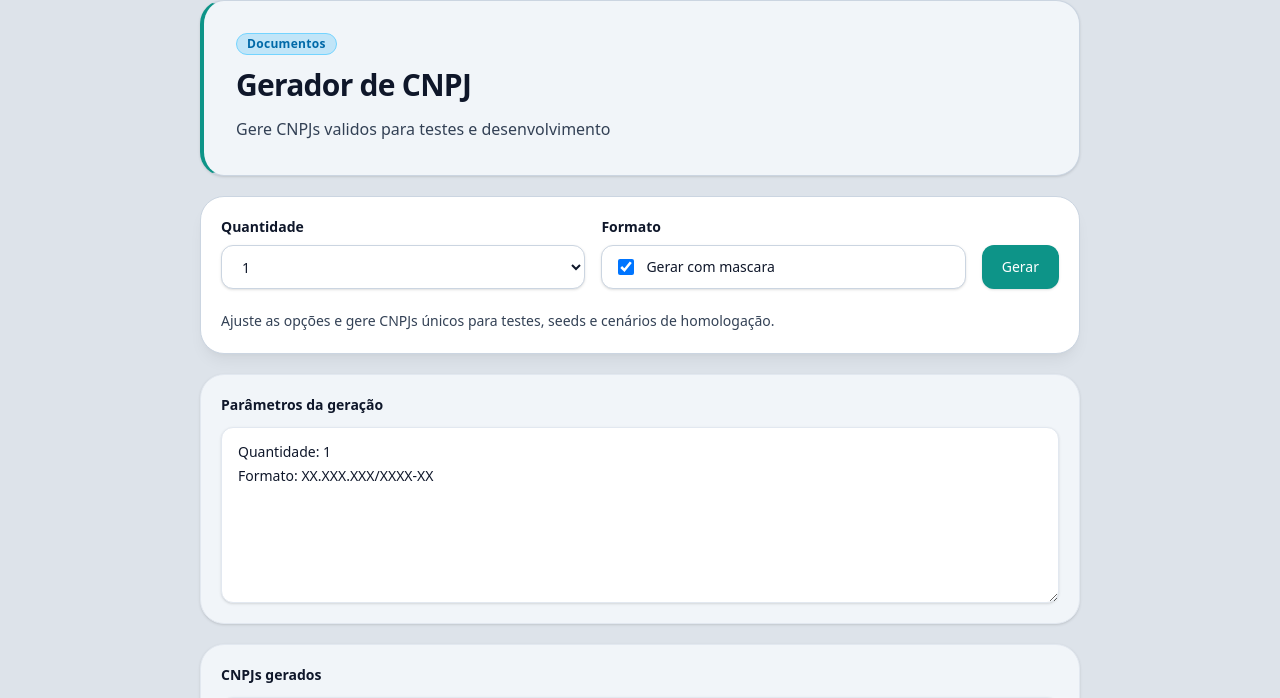
CnpjGeneratorPage › exibe toast de erro quando a geracao falha
This screenshot has width=1280, height=698.
Click the button "Gerar" at (1020, 267), box top-left (982, 245), bottom-right (1059, 289)
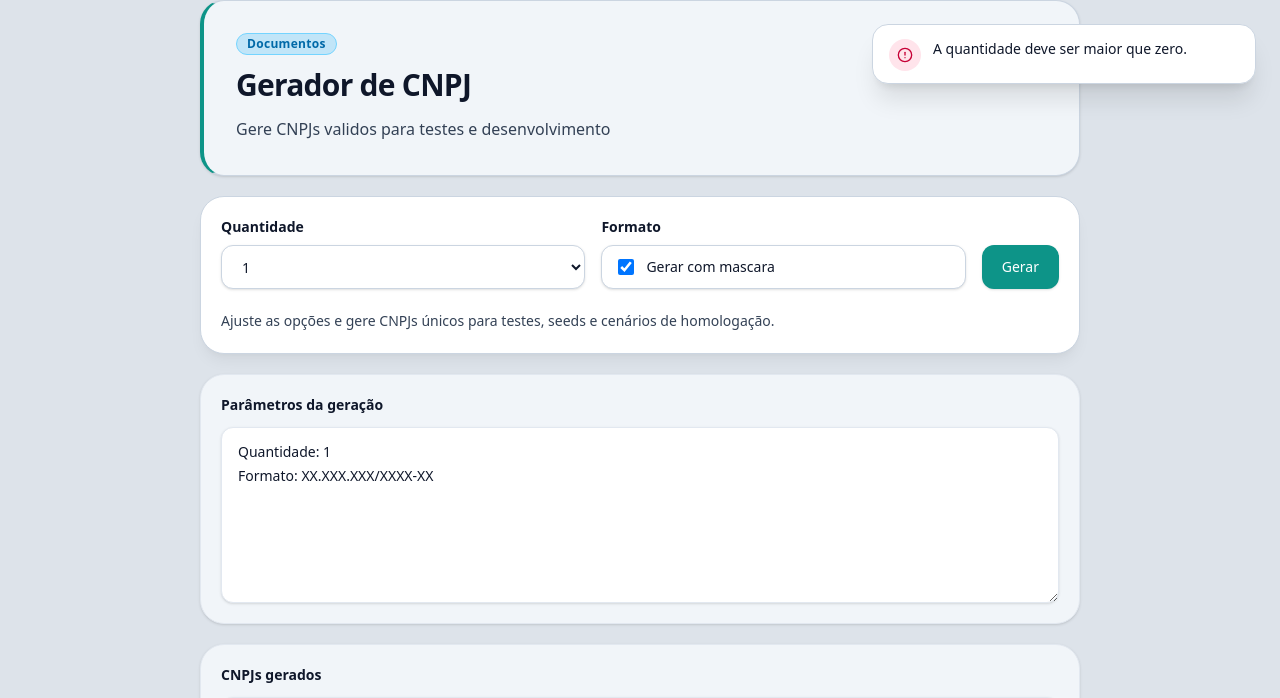
Expected: the text "A quantidade deve ser maior que zero." is shown, top-left (933, 37), bottom-right (1187, 61)
